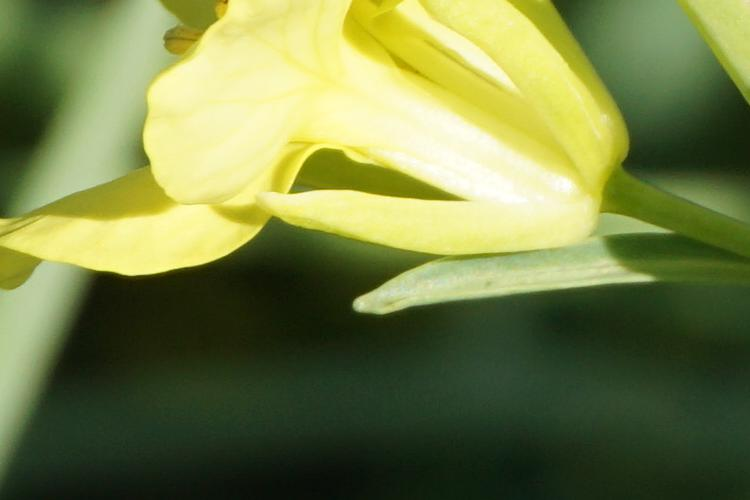yellow: (22, 6, 625, 257)
